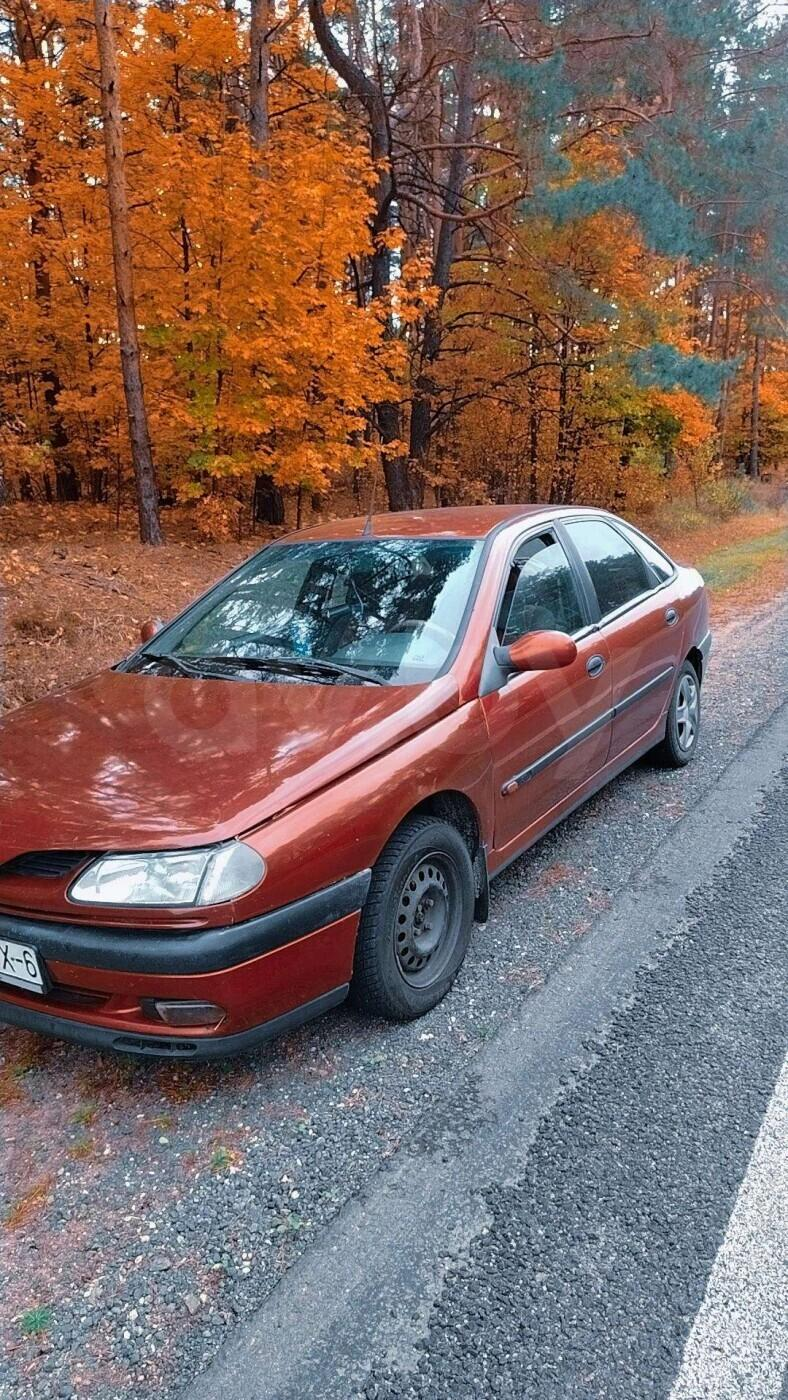Lahuna_1993-1999: (0, 492, 708, 1050)
